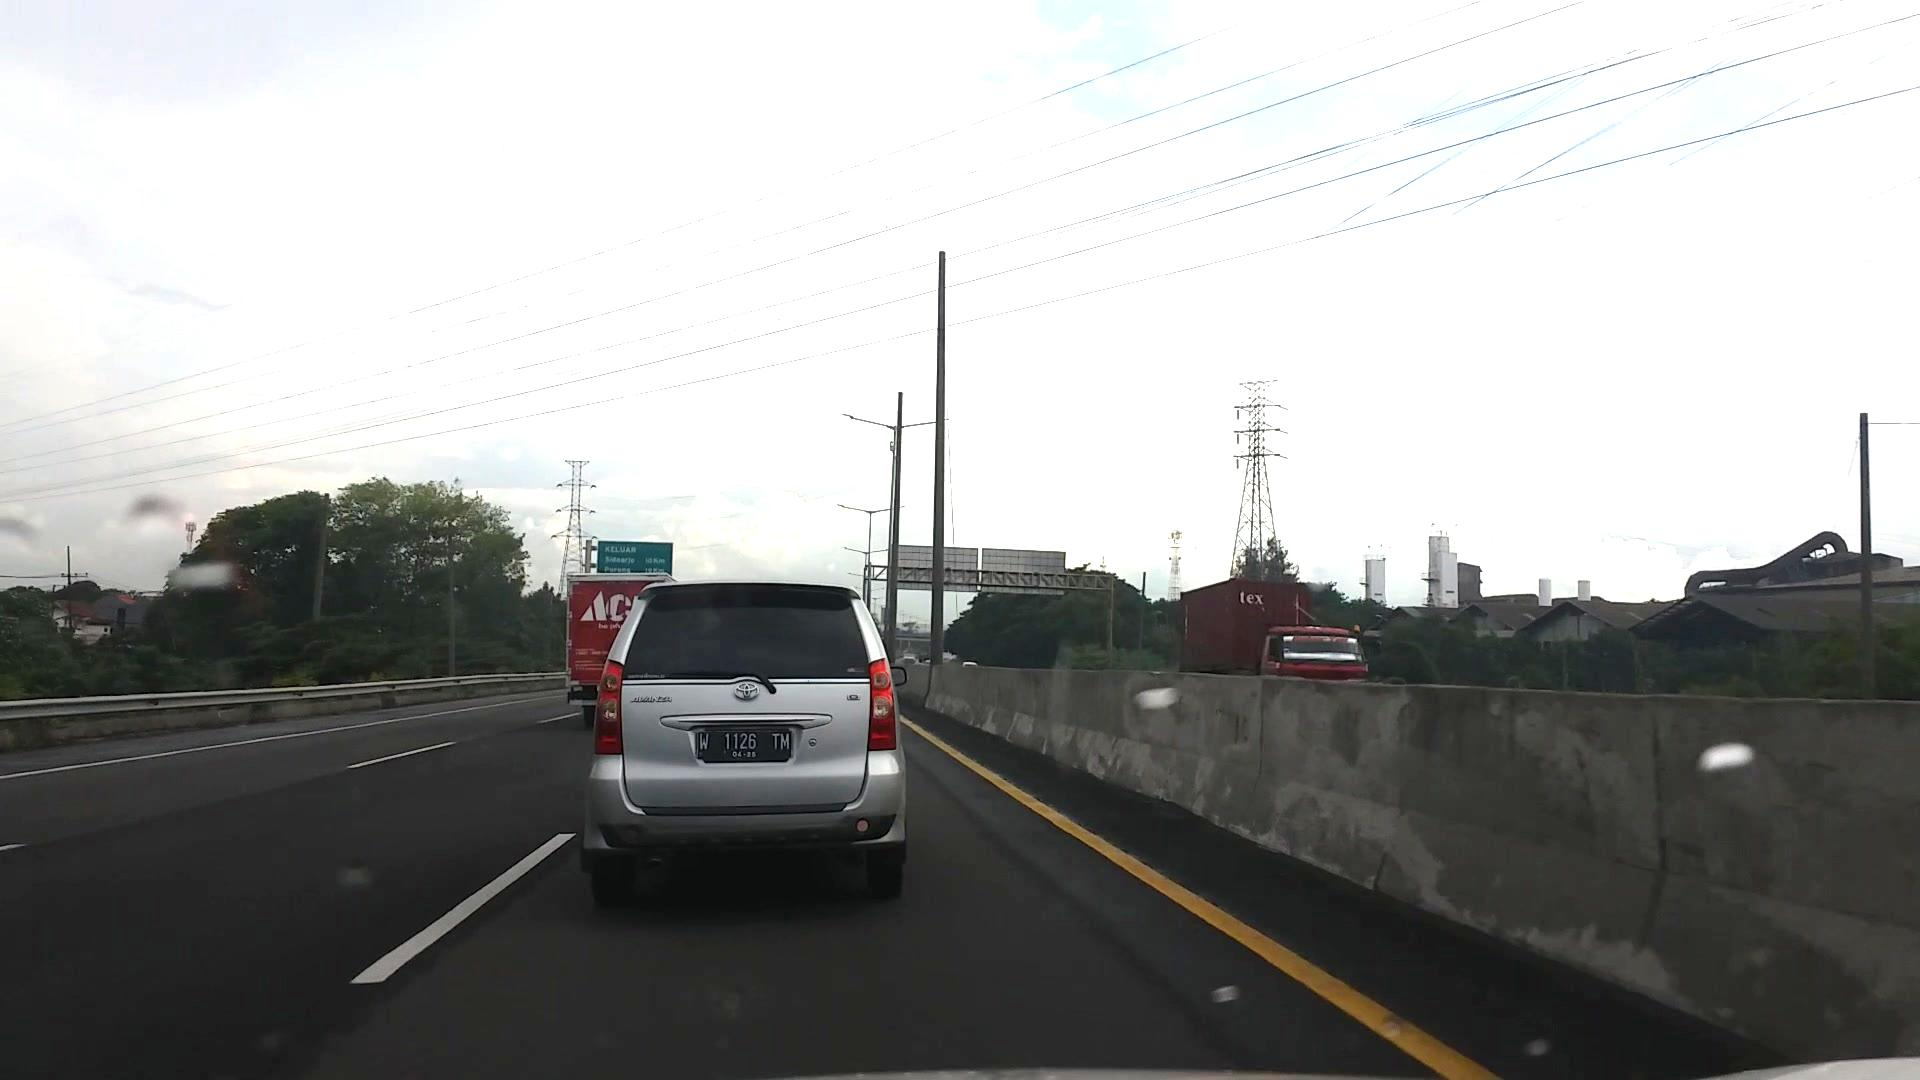plate_positive: (696, 731, 793, 762)
